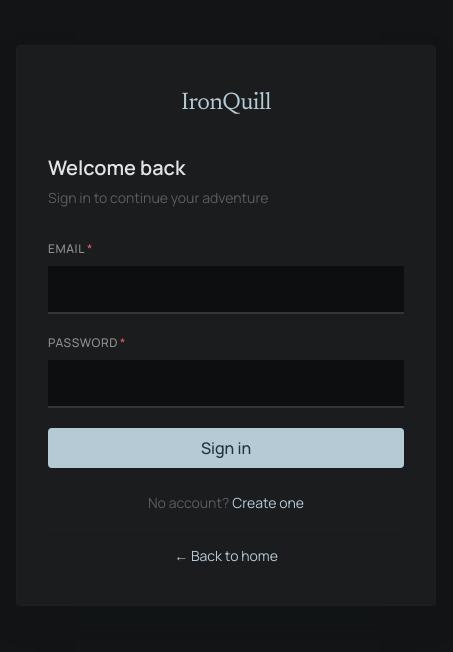
Test: LoginPage › shows validation errors for empty submission
Click the button "Sign in": coordinates (226, 448) [48,428,404,468]
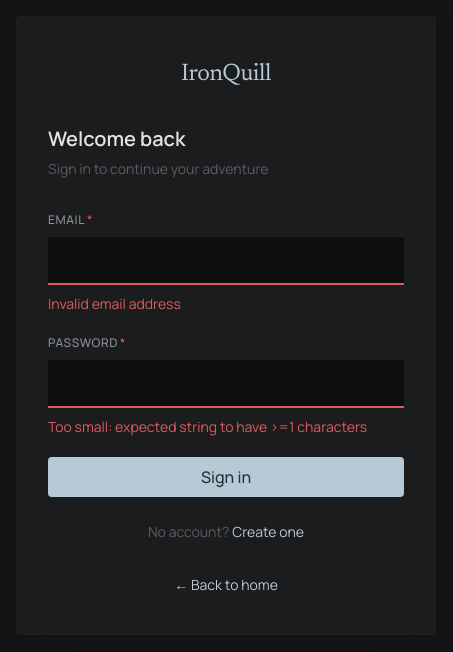
Now the message "Invalid email address" is shown, box [48,294,181,312]
